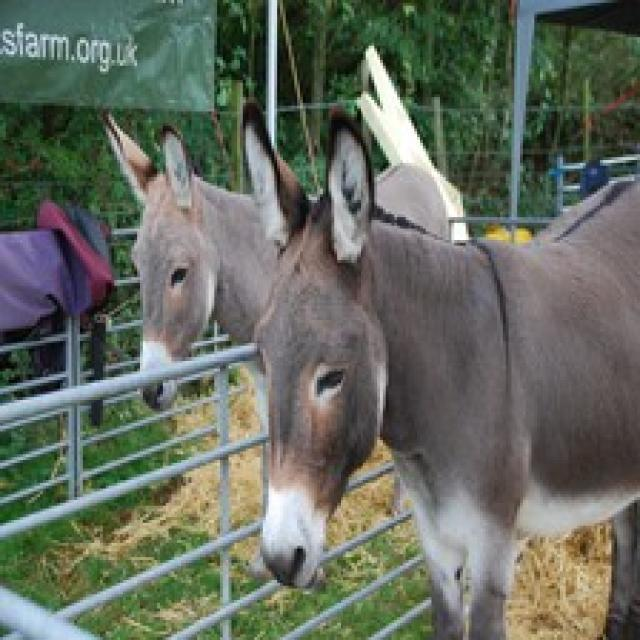Donkey: (195, 62, 640, 638), (82, 91, 272, 458)
